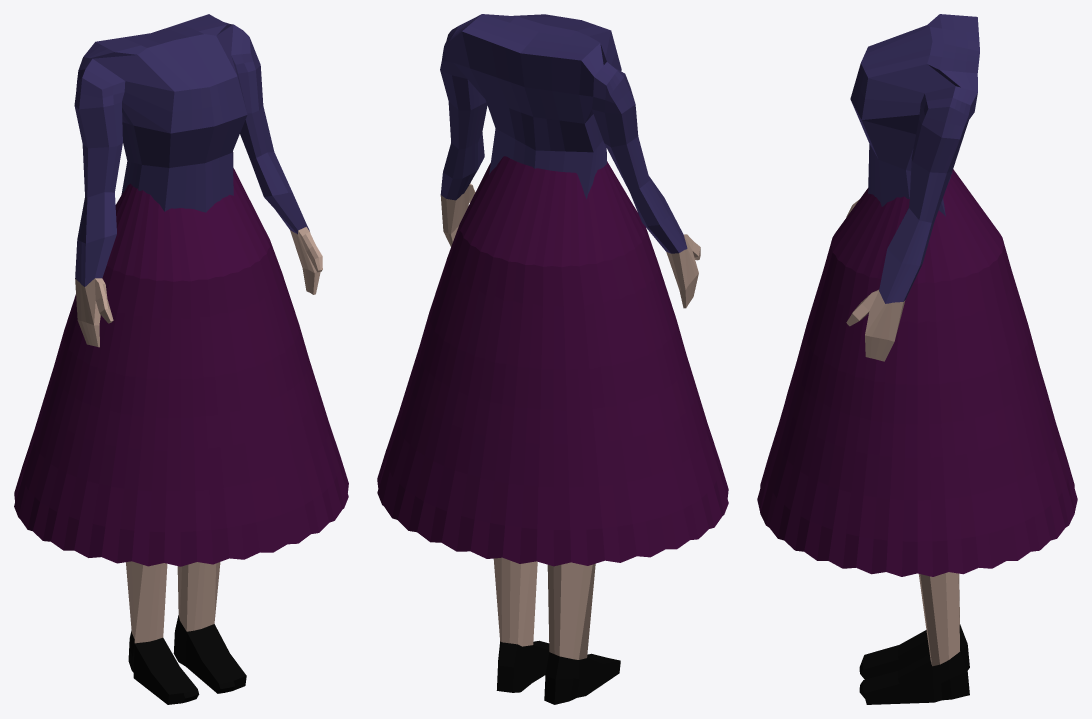
Rendered from Lucy.fbx.
3 views of the same model, side by side, from view 1: azimuth 30°, elevation 25°; view 2: azimuth 150°, elevation 25°; view 3: azimuth 270°, elevation 25° (orthographic). The views are drawn at different scales.
Parts seen in each view (by area): view 1: Cylinder, Cube, Cube.003, Cube.002, Cube.001; view 2: Cylinder, Cube, Cube.002, Cube.003, Cube.001; view 3: Cylinder, Cube, Cube.003, Cube.002, Cube.001.
Part boxes in pixels (bbox=[...]): Cylinder: bbox=[14, 168, 348, 566]; Cube: bbox=[74, 14, 309, 286]; Cube.003: bbox=[128, 615, 246, 704]; Cube.002: bbox=[126, 561, 220, 643]; Cube.001: bbox=[75, 227, 322, 347]; Cylinder: bbox=[377, 156, 728, 566]; Cube: bbox=[440, 14, 687, 253]; Cube.002: bbox=[493, 557, 595, 659]; Cube.003: bbox=[496, 640, 620, 704]; Cube.001: bbox=[440, 183, 700, 308]; Cylinder: bbox=[757, 169, 1077, 576]; Cube: bbox=[850, 14, 979, 303]; Cube.003: bbox=[859, 624, 969, 704]; Cube.002: bbox=[918, 572, 959, 666]; Cube.001: bbox=[846, 199, 905, 361].
Size of the model in its own units: 172 by 351 by 158.
